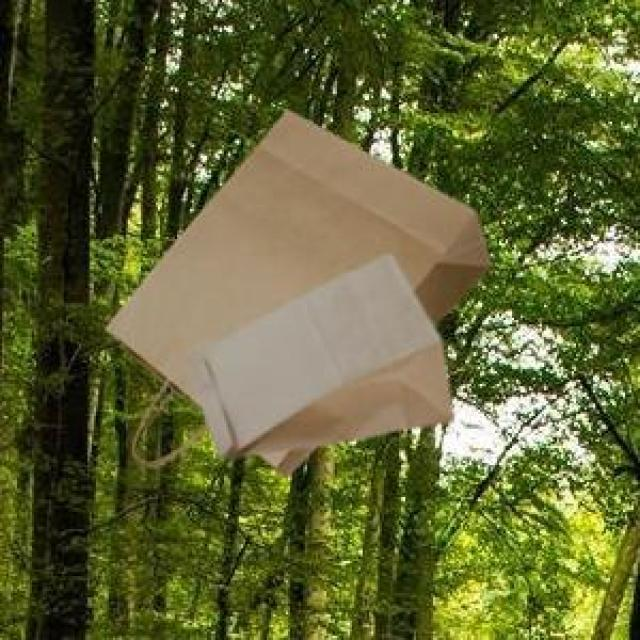paper: (102, 107, 486, 474), (184, 252, 448, 454)
